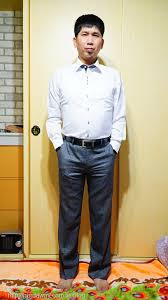F_belt: (66, 132, 117, 151)
F_dress pants: (56, 133, 116, 278)
F_shirt: (46, 61, 133, 154)
